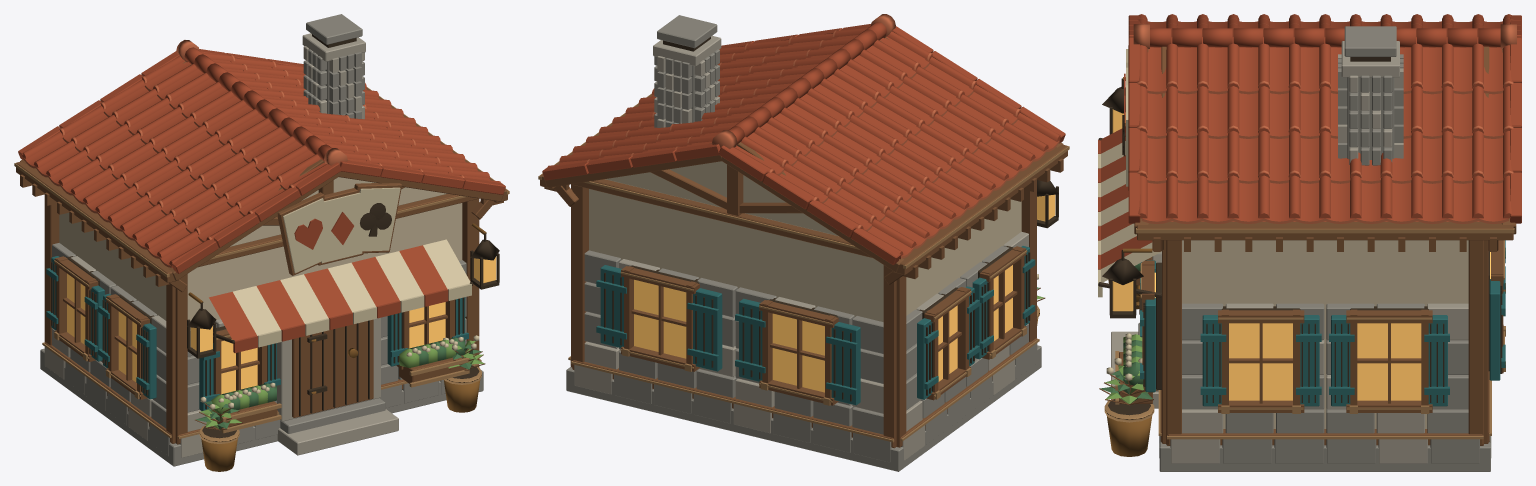
3 views of the same model, side by side, from view 1: azimuth 30°, elevation 25°; view 2: azimuth 150°, elevation 25°; view 3: azimuth 270°, elevation 25° (orthographic). The views are drawn at different scales.
Visible parts, largest first — view 1: alpine_card_pavilion_geometry; view 2: alpine_card_pavilion_geometry; view 3: alpine_card_pavilion_geometry.
Boxes of the visible parts, x1=… form: alpine_card_pavilion_geometry: x1=14, y1=14, x2=509, y2=471; alpine_card_pavilion_geometry: x1=538, y1=14, x2=1069, y2=471; alpine_card_pavilion_geometry: x1=1098, y1=14, x2=1521, y2=471.
Size of the model in its own units: 1.04 by 0.9181 by 0.8898.
